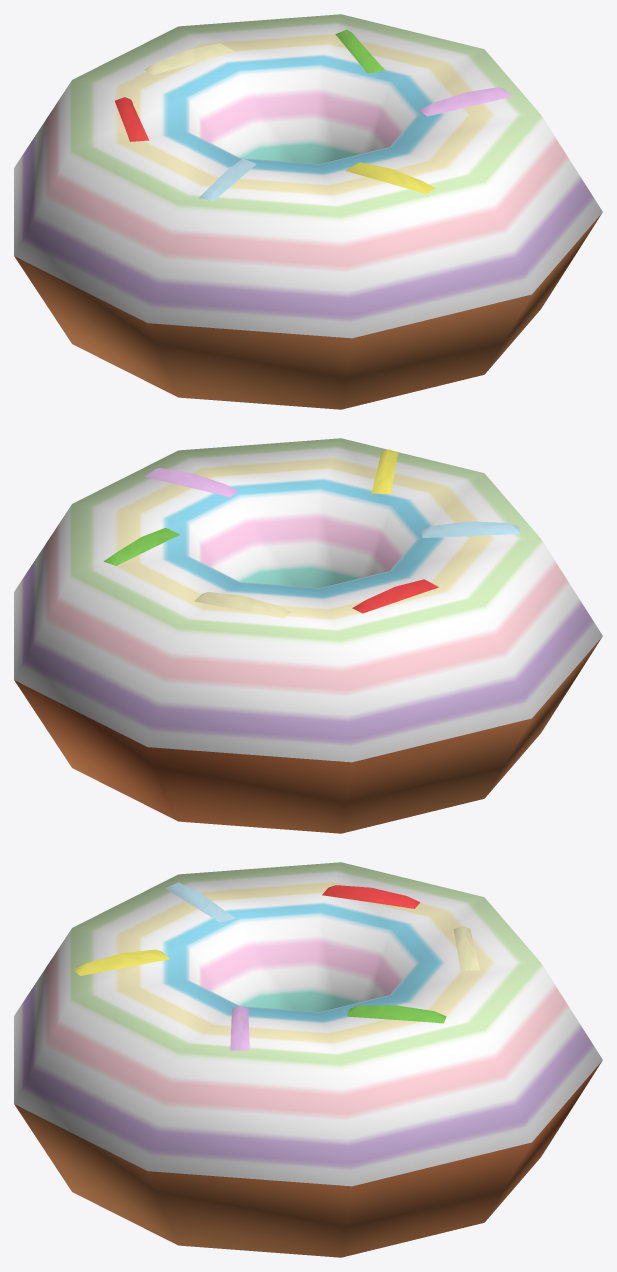
The model's file is Doughnut_H_4.FBX.
3 renders of one model, top to bottom at view 1: azimuth 30°, elevation 25°; view 2: azimuth 150°, elevation 25°; view 3: azimuth 270°, elevation 25°, orthographic.
Parts seen in each view (by area): view 1: Doughnut; view 2: Doughnut; view 3: Doughnut.
Boxes of the visible parts, x1,y1,x2,y2 form: Doughnut: (14, 14, 602, 409); Doughnut: (14, 438, 602, 833); Doughnut: (14, 862, 602, 1257).
Bounding box in the file's own units: 52.77 × 19.96 × 51.97.
